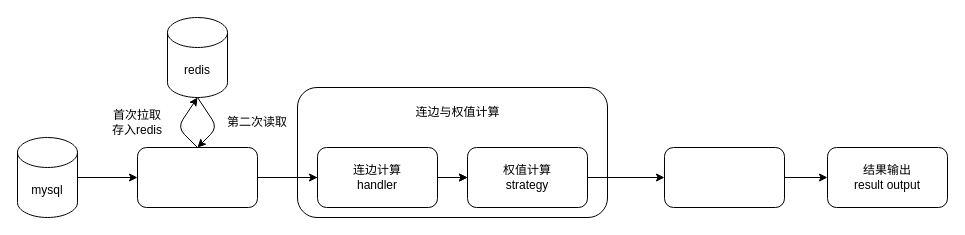
The diagram is 965 pixels wide and 235 high, and some of its shapes have lost their labels. The shapes that lost their labels are listed below. From the top down, each one's box as (x1, y1, x2, y2) in pixels, then its label:
(136, 146, 258, 208): 数据拉取工具 datautil
(664, 146, 784, 208): 最大费用流 max cost flow
